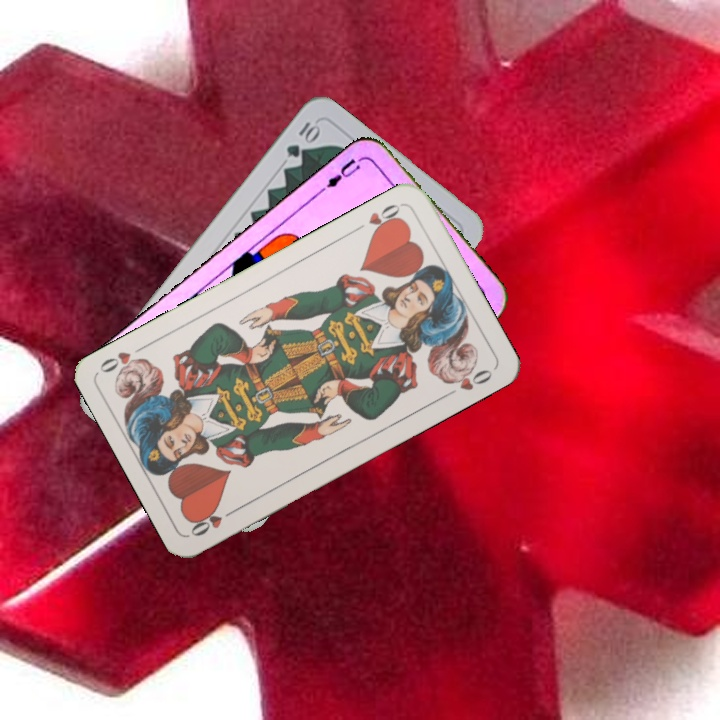EU: (316, 152, 367, 195)
G10: (282, 117, 322, 160)
HO: (351, 199, 405, 238), (186, 503, 241, 539)
